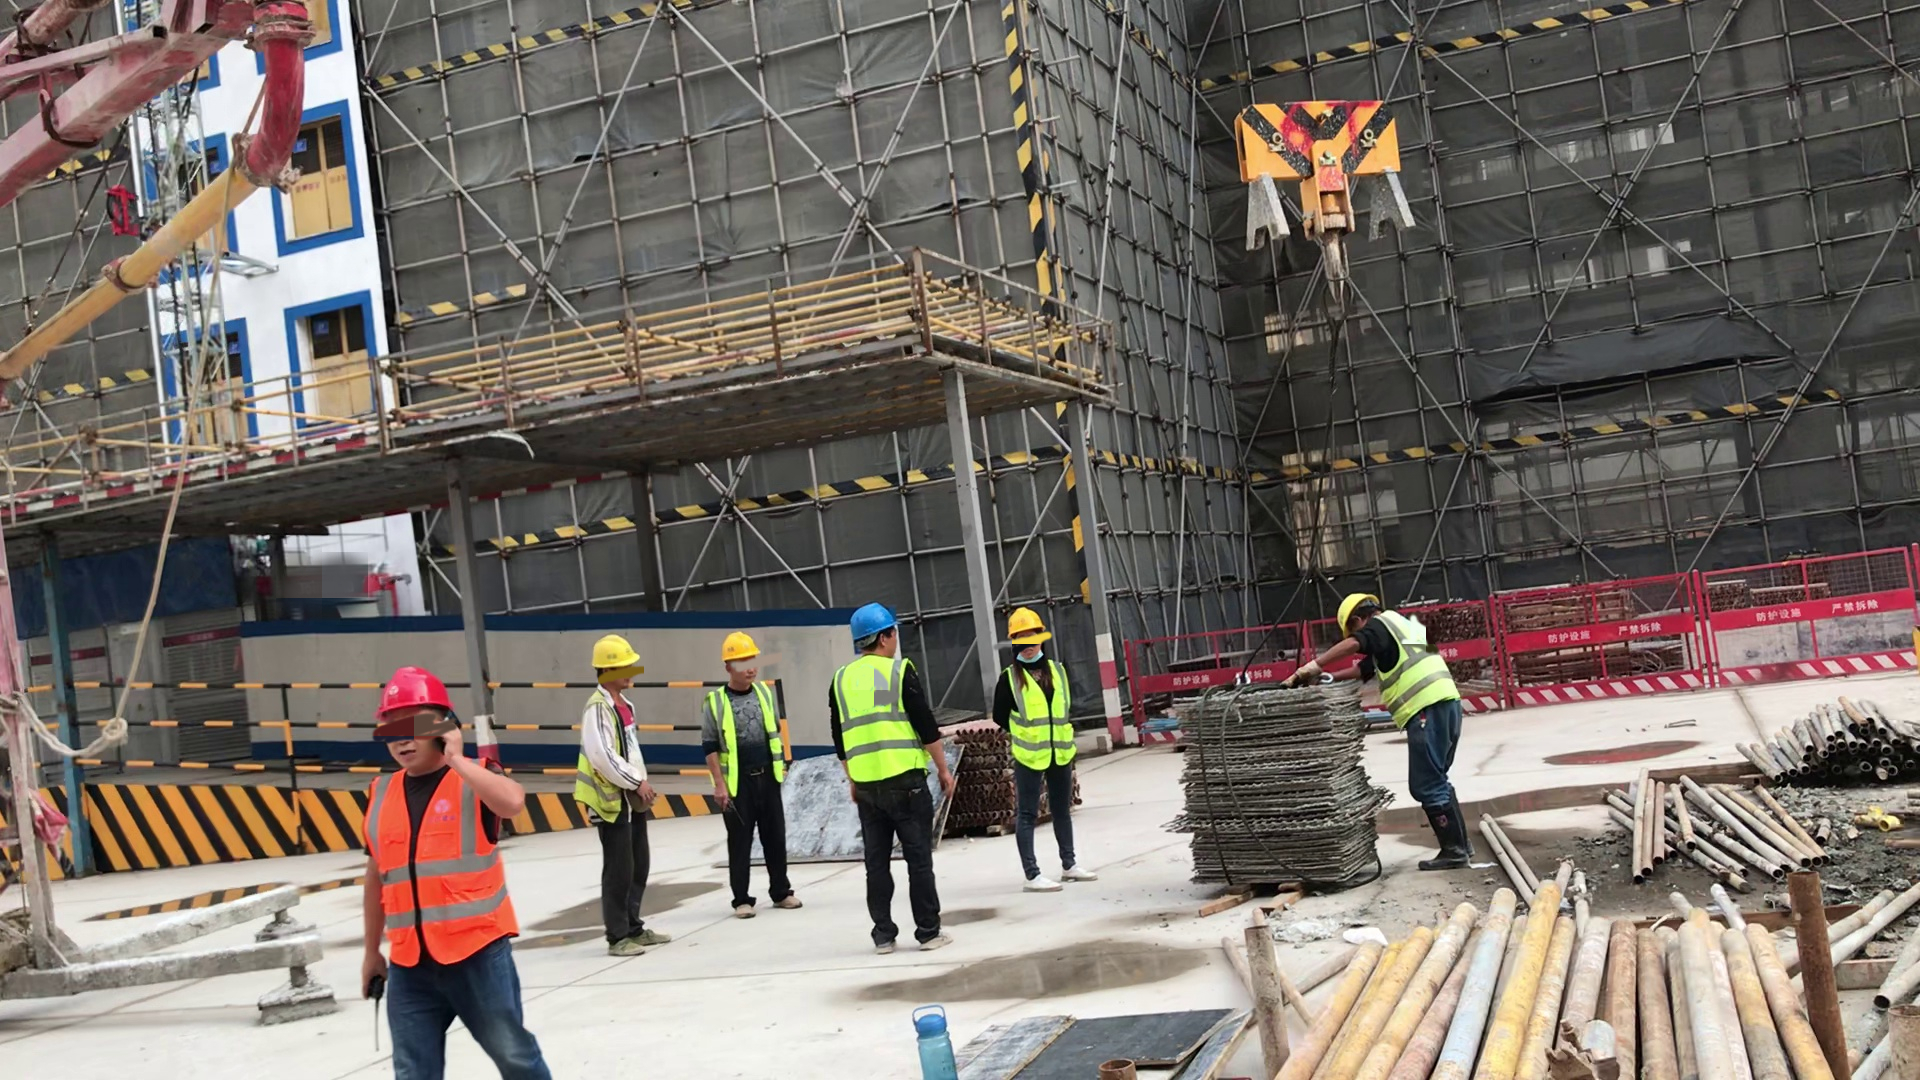helmet: (377, 669, 454, 711), (1338, 596, 1379, 633), (850, 605, 900, 636), (593, 637, 639, 668), (1009, 607, 1045, 635), (721, 634, 762, 658)
person: (362, 669, 525, 1080), (832, 607, 954, 954), (1338, 597, 1465, 862), (583, 638, 673, 957), (997, 608, 1096, 892), (711, 634, 798, 918)
vest: (370, 774, 523, 960), (836, 660, 931, 783), (1377, 616, 1456, 723), (711, 689, 783, 799), (1006, 664, 1082, 769), (575, 739, 628, 815)
